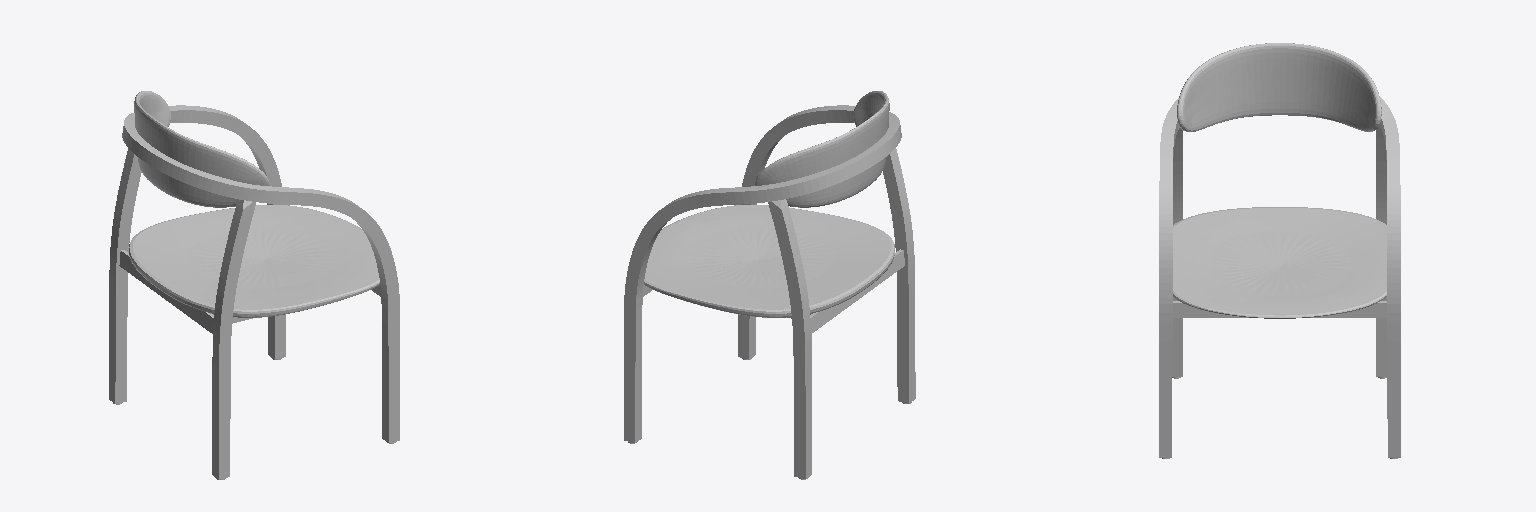
The model's file is ARCH_armchair__by_Wildspirit.obj.
3 renders of one model, left to right at view 1: azimuth 30°, elevation 25°; view 2: azimuth 150°, elevation 25°; view 3: azimuth 270°, elevation 25°, orthographic.
Visible parts, largest first — view 1: ARCH armchair | Wildspirit_Wood_oak; view 2: ARCH armchair | Wildspirit_Wood_oak; view 3: ARCH armchair | Wildspirit_Wood_oak.
Boxes of the visible parts, <box> form: ARCH armchair | Wildspirit_Wood_oak: <box>109,91,399,479</box>; ARCH armchair | Wildspirit_Wood_oak: <box>624,91,915,478</box>; ARCH armchair | Wildspirit_Wood_oak: <box>1159,43,1400,457</box>.
Size of the model in its own units: 0.648 by 0.883 by 0.5952.